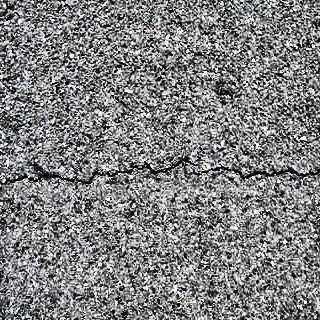crack: (0, 152, 320, 202)
